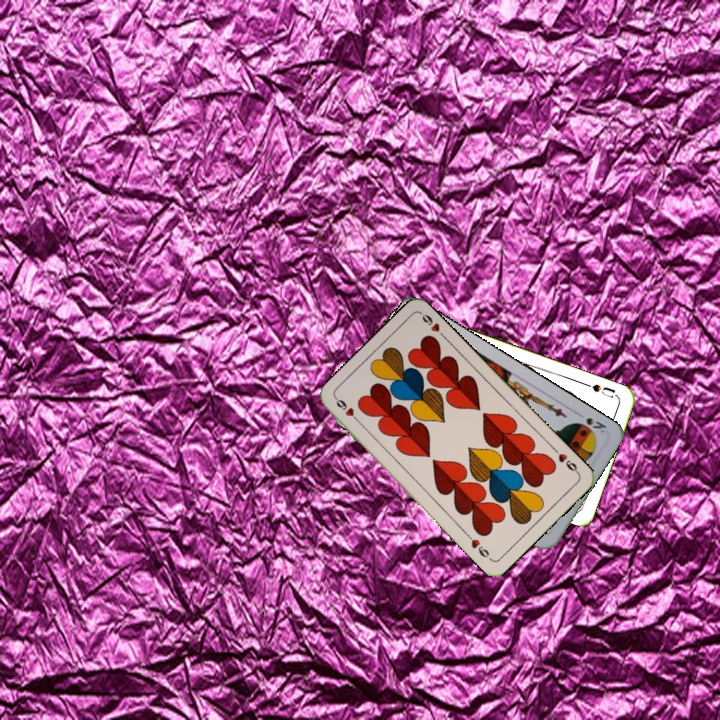H9: (550, 444, 582, 477), (332, 394, 364, 427)
SK: (582, 413, 609, 436)
SU: (581, 379, 618, 401)
